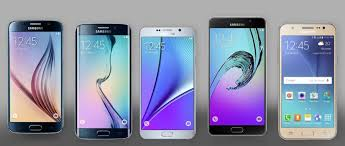samsung: (137, 24, 198, 144), (74, 19, 135, 139), (5, 16, 66, 136), (207, 14, 268, 134), (276, 25, 337, 145)
